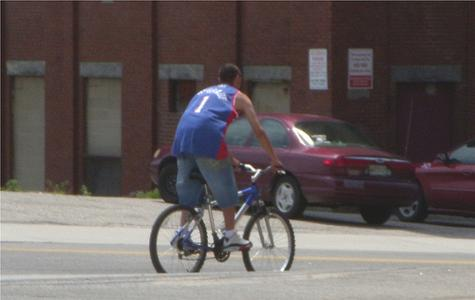person: (172, 64, 287, 254)
